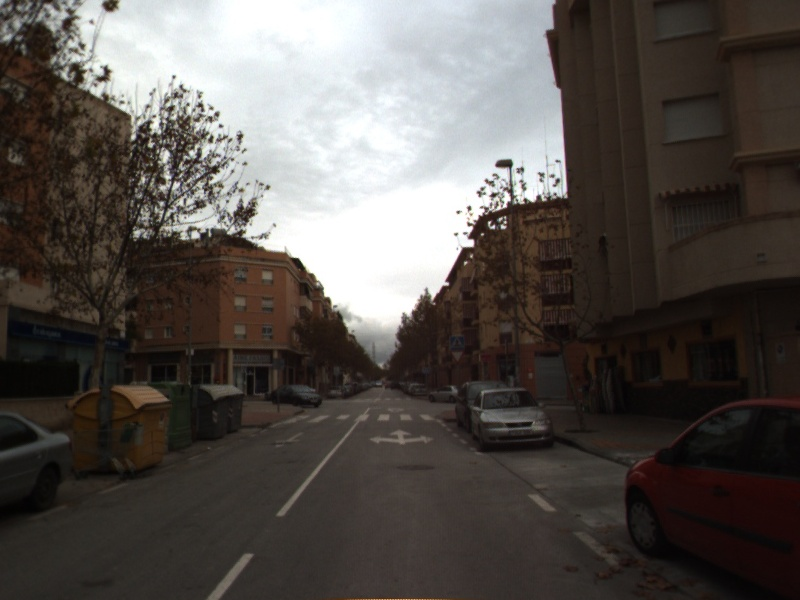STRAIGHT_LEFT_RIGHT: (368, 426, 437, 447)
